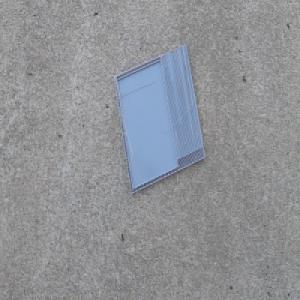PlasticPart: (112, 43, 206, 196)
